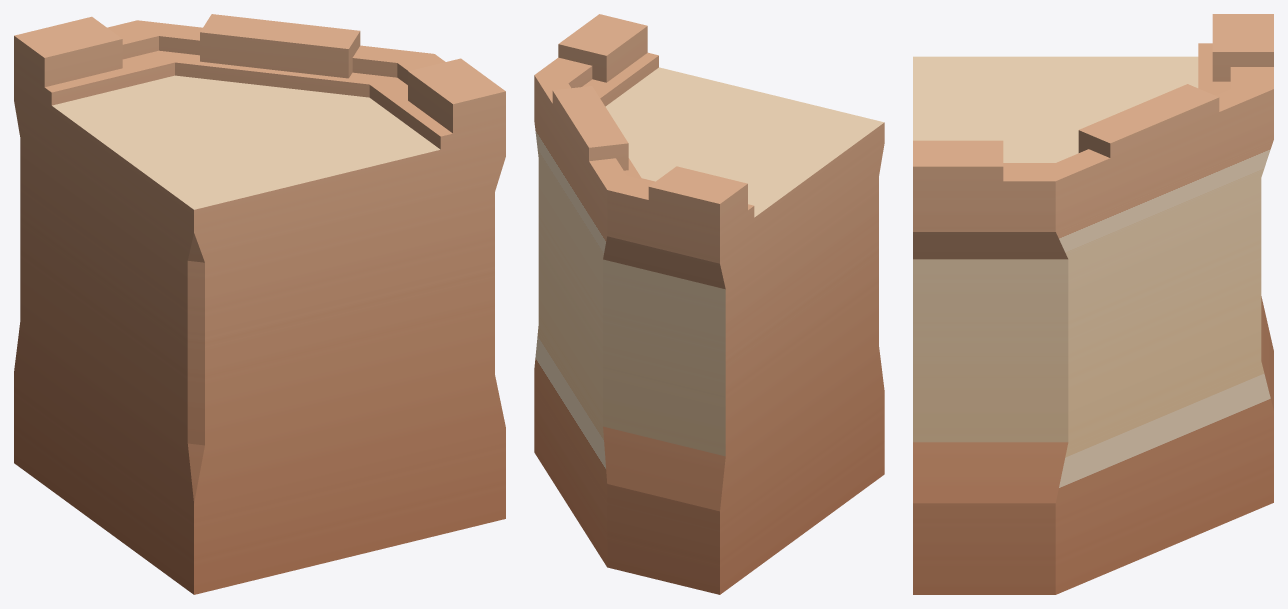
File: wall-corner-slant.obj
The picture shows the model from 3 angles, left to right: view 1: azimuth 30°, elevation 25°; view 2: azimuth 150°, elevation 25°; view 3: azimuth 270°, elevation 25°; orthographic projection. The views are drawn at different scales.
Parts seen in each view (by area): view 1: wall-corner-slant; view 2: wall-corner-slant; view 3: wall-corner-slant.
Part boxes in pixels (left/top/right/bottom): wall-corner-slant: left=14, top=14, right=505, bottom=594; wall-corner-slant: left=534, top=14, right=884, bottom=594; wall-corner-slant: left=913, top=14, right=1273, bottom=594.
Size of the model in its own units: 1 by 1.31 by 1.
1 material, 1 textured.
